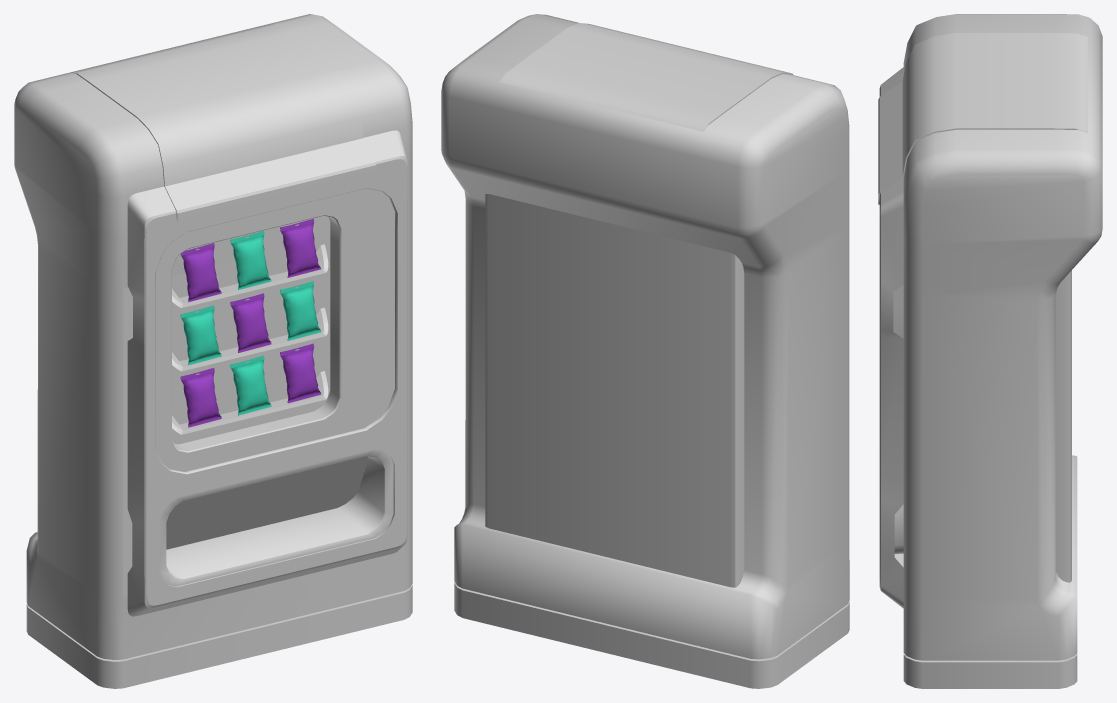
The model's file is Auto_new.fbx.
The picture shows the model from 3 angles, left to right: view 1: azimuth 30°, elevation 25°; view 2: azimuth 150°, elevation 25°; view 3: azimuth 270°, elevation 25°; orthographic projection. The views are drawn at different scales.
Visible parts, largest first — view 1: wall; view 2: wall; view 3: wall.
Part boxes in pixels (x1,y1,x2,y2): wall: (14,14,412,688); wall: (441,14,849,688); wall: (878,14,1102,688).
Size of the model in its own units: 131 by 216 by 82.47.
